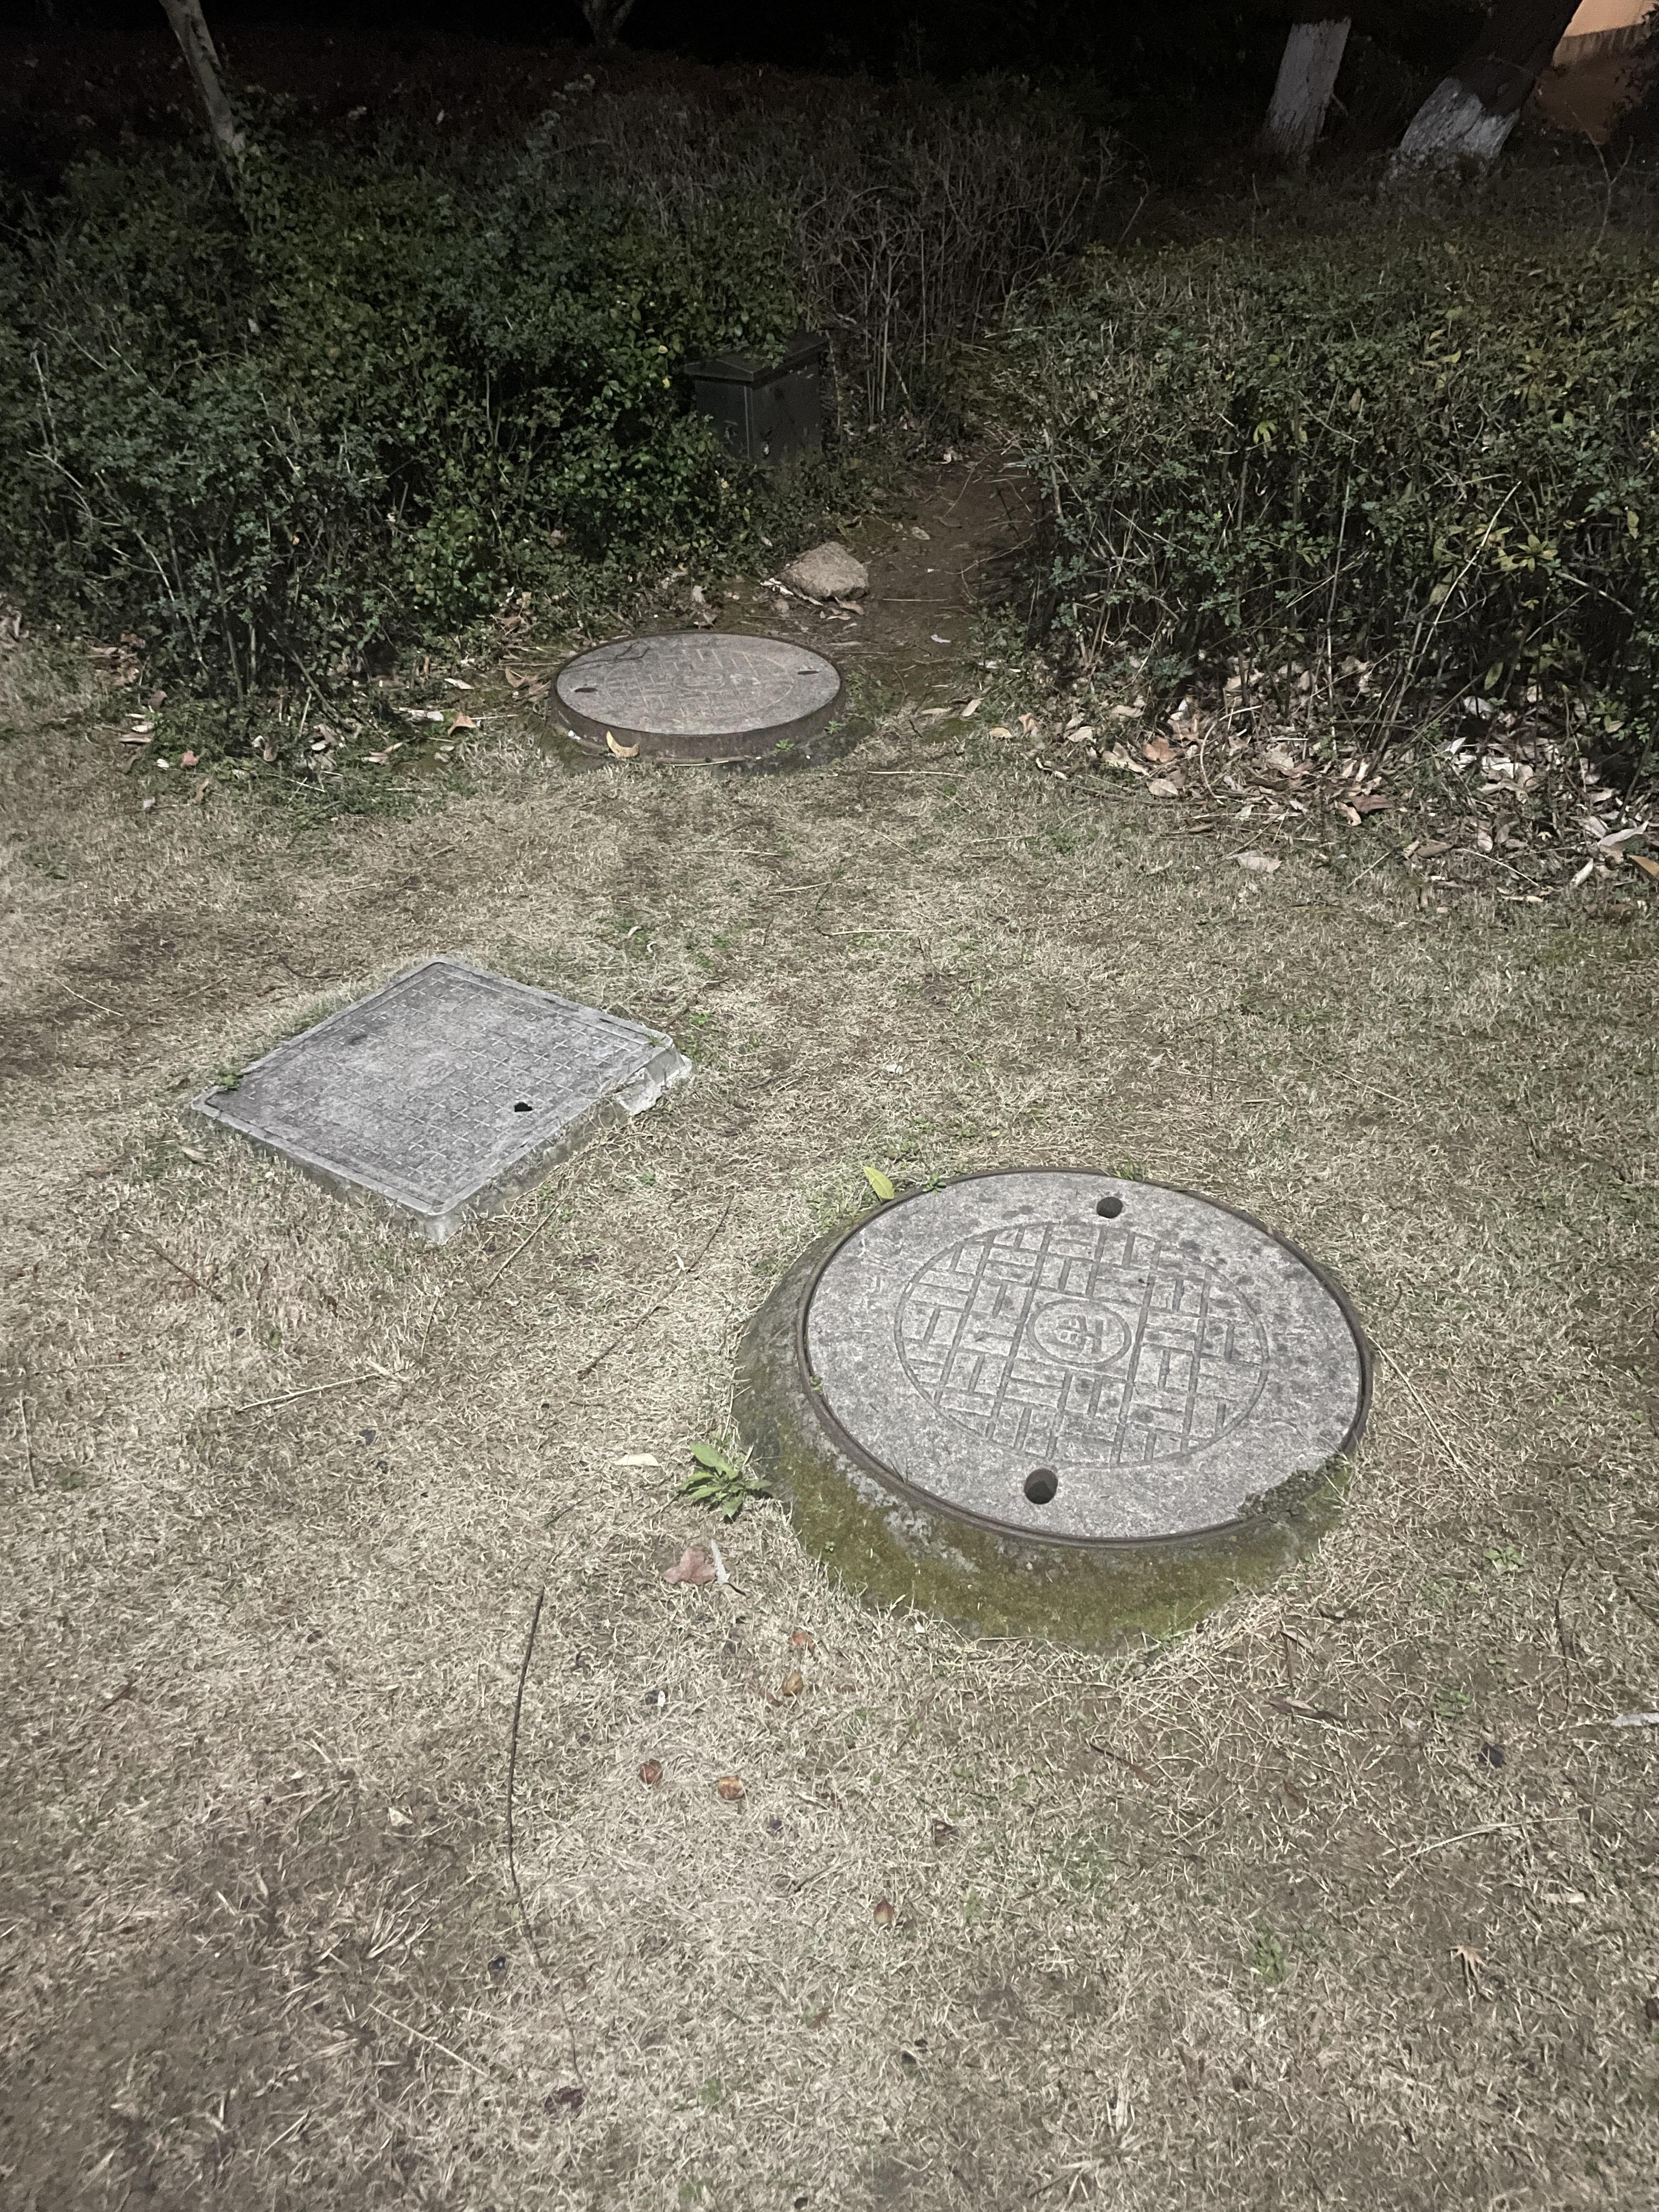wellcover: (786, 1137, 1392, 1615), (134, 923, 709, 1273), (540, 589, 899, 805)
